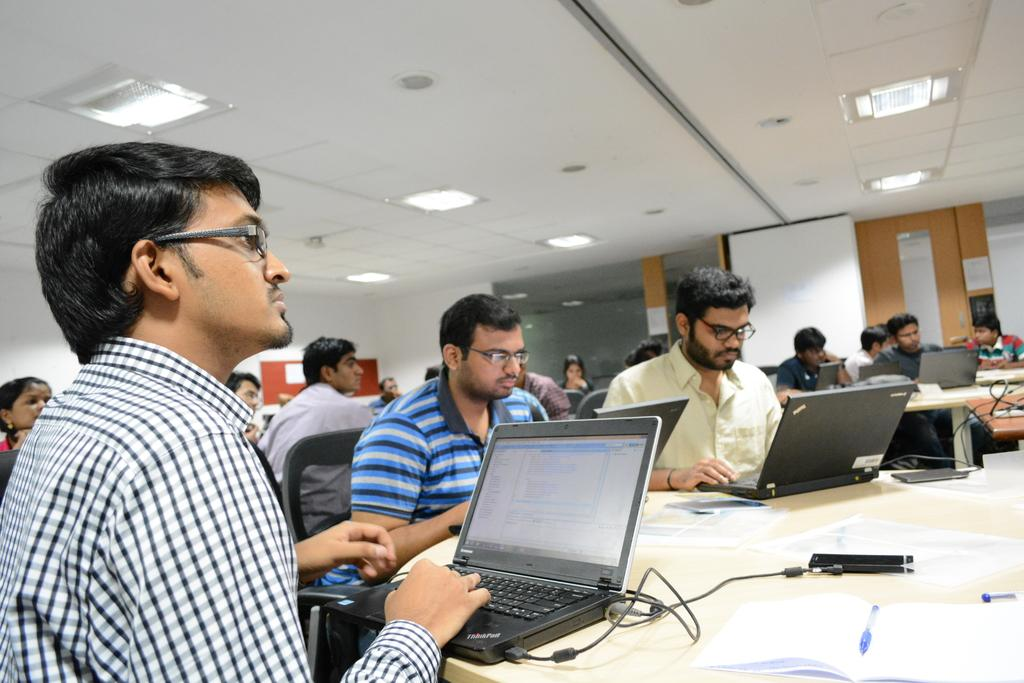Laptop: (330, 438, 684, 662), (696, 383, 913, 500), (593, 400, 688, 466), (912, 352, 980, 390), (858, 360, 899, 383), (818, 361, 838, 384)
